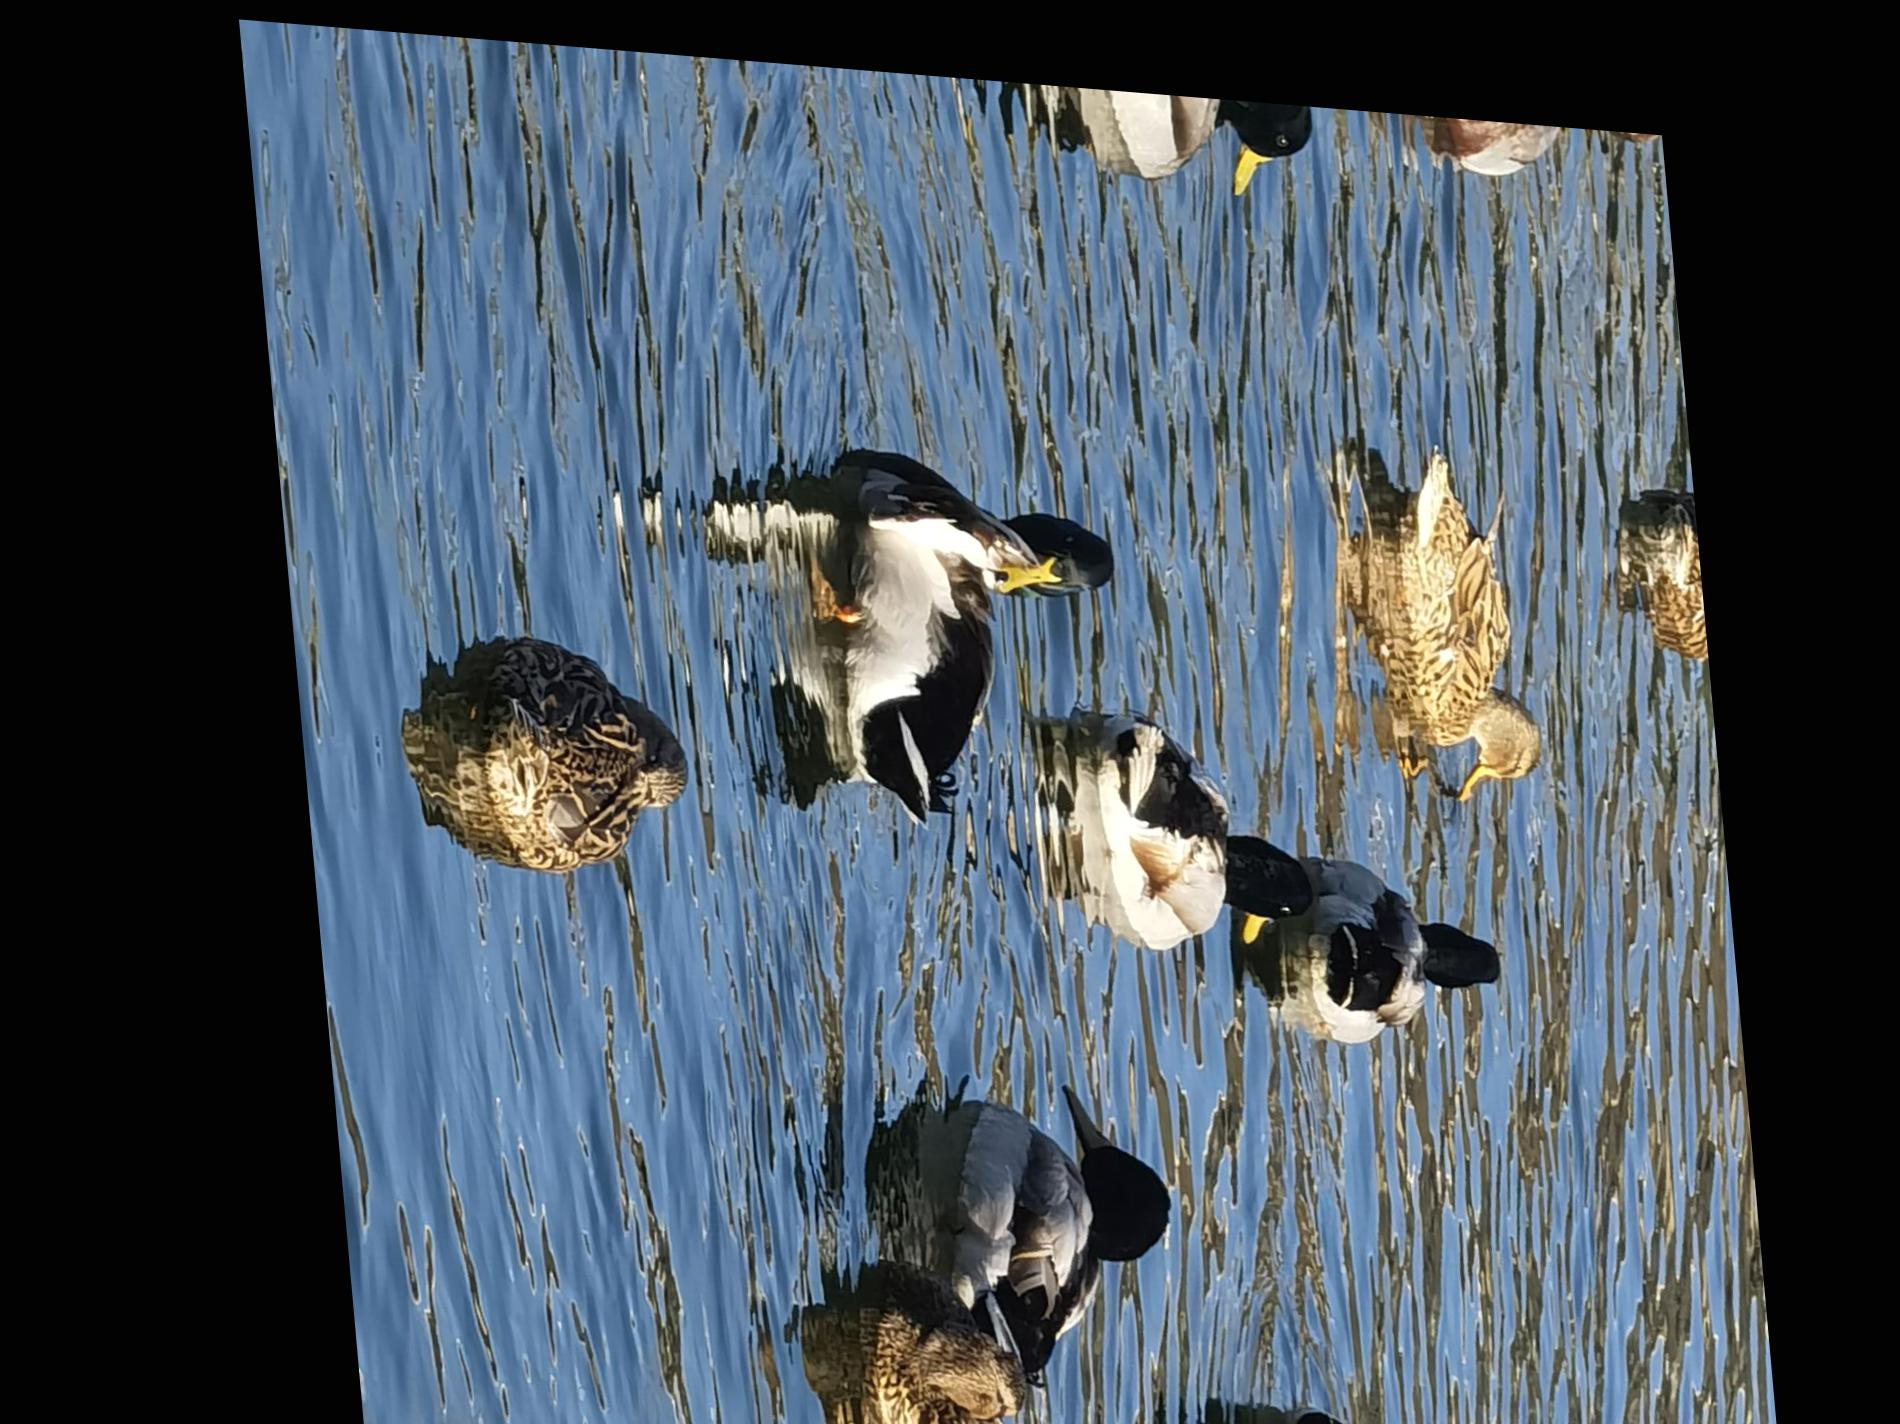duck: (793, 429, 1125, 820), (904, 1064, 1182, 1424), (455, 627, 700, 883), (1373, 426, 1542, 782), (1074, 693, 1293, 951), (1282, 832, 1498, 1029), (829, 1252, 1001, 1424), (1091, 70, 1318, 175), (1441, 93, 1599, 159), (1246, 1388, 1438, 1424)
